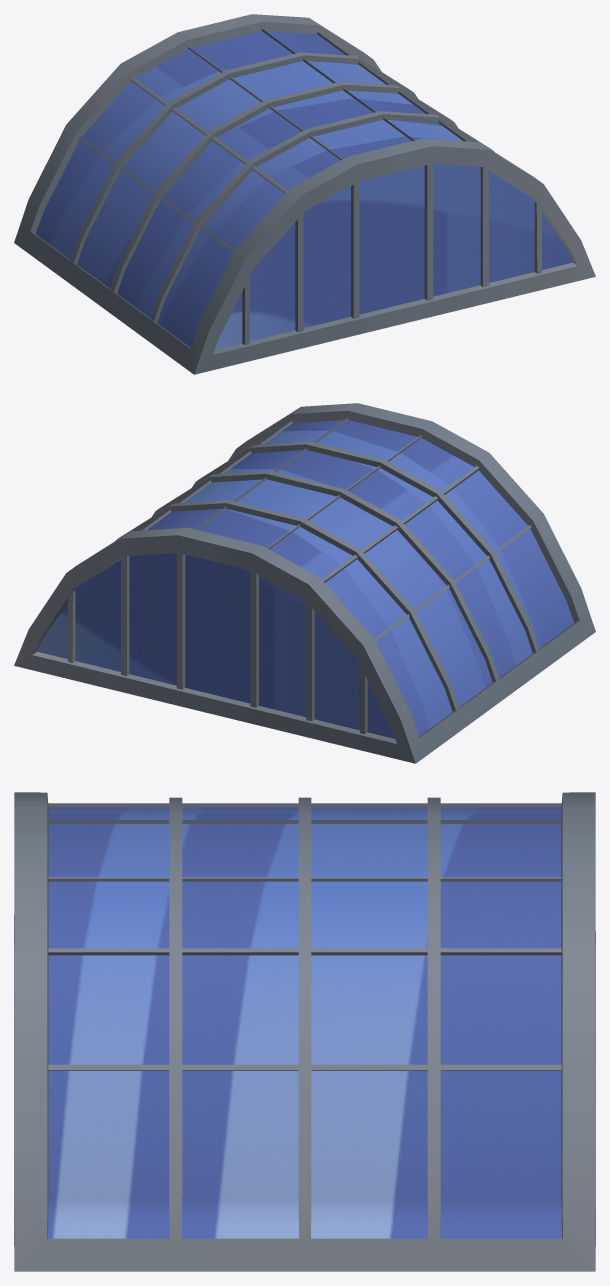
Rendered from RoofProp_5_B.fbx.
The picture shows the model from 3 angles, top to bottom: view 1: azimuth 30°, elevation 25°; view 2: azimuth 150°, elevation 25°; view 3: azimuth 270°, elevation 25°; orthographic projection. The views are drawn at different scales.
Parts seen in each view (by area): view 1: RoofProp_5_B; view 2: RoofProp_5_B; view 3: RoofProp_5_B.
Part boxes in pixels (x1,y1,x2,y2): RoofProp_5_B: (14, 14, 595, 374); RoofProp_5_B: (14, 403, 595, 763); RoofProp_5_B: (14, 792, 595, 1271).
Bounding box in the file's own units: 337 × 137 × 262.
